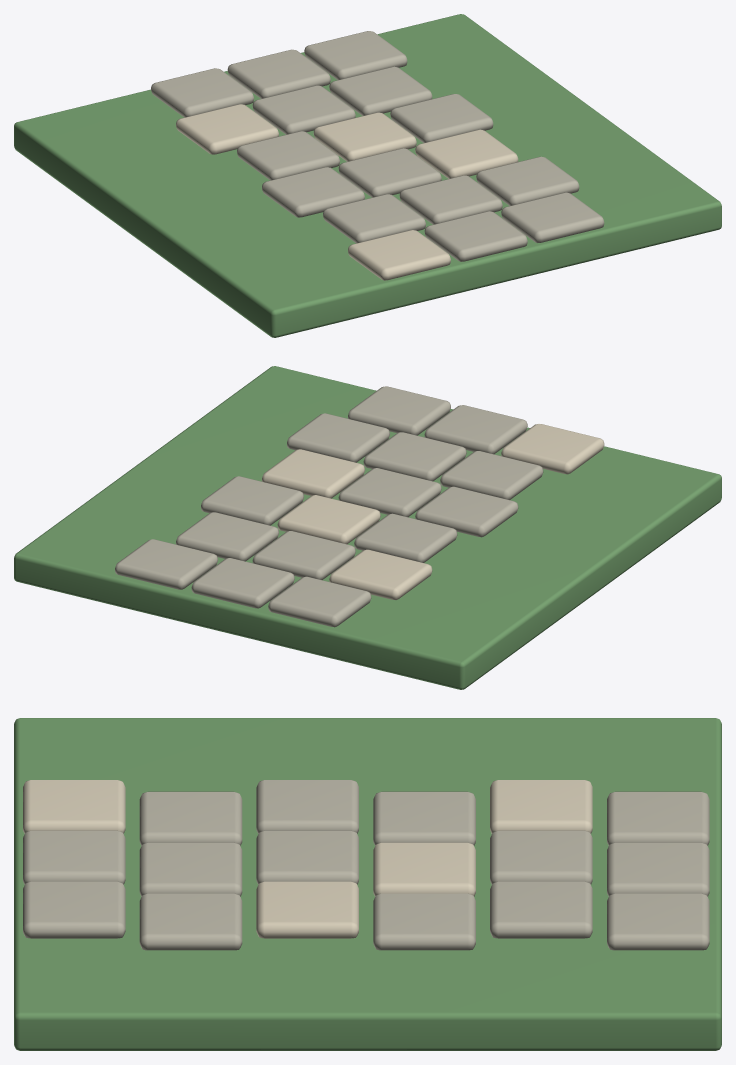
The model's file is SM_Path_Stone_4m.fbx.
3 renders of one model, top to bottom at view 1: azimuth 30°, elevation 25°; view 2: azimuth 150°, elevation 25°; view 3: azimuth 270°, elevation 25°, orthographic. The views are drawn at different scales.
Parts seen in each view (by area): view 1: SM_Path_Stone_4m; view 2: SM_Path_Stone_4m; view 3: SM_Path_Stone_4m.
Boxes of the visible parts, <box> form: SM_Path_Stone_4m: <box>14,14,721,337</box>; SM_Path_Stone_4m: <box>14,366,721,689</box>; SM_Path_Stone_4m: <box>14,718,721,1050</box>.
Bounding box in the file's own units: 4 × 0.33 × 4.
